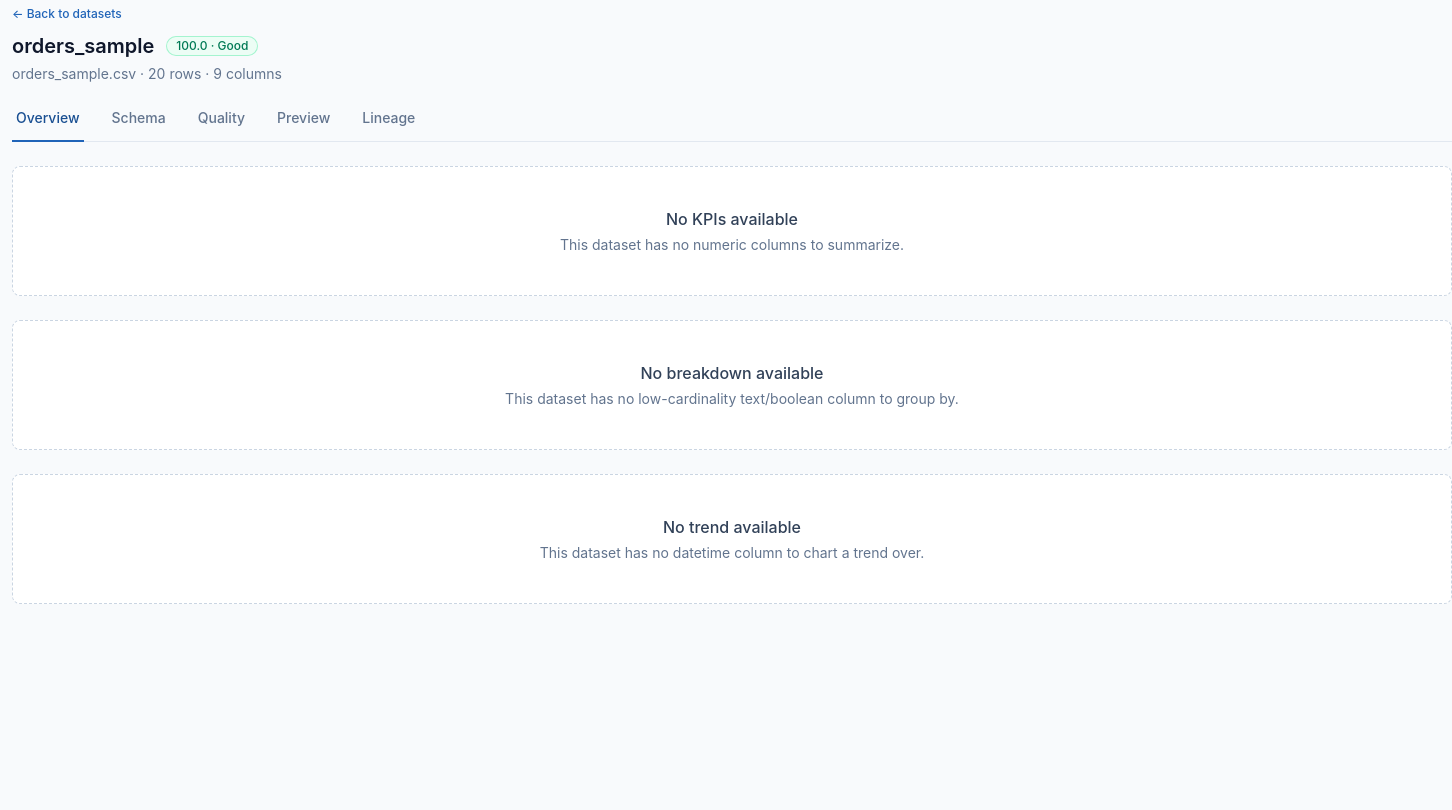
Test: DatasetDetailPage › shows the real quality score and issues on the Quality tab
Expected: the heading "orders_sample" is shown, [12,32,154,60]
Click the button "Quality": x=221, y=125 [194,108,249,142]
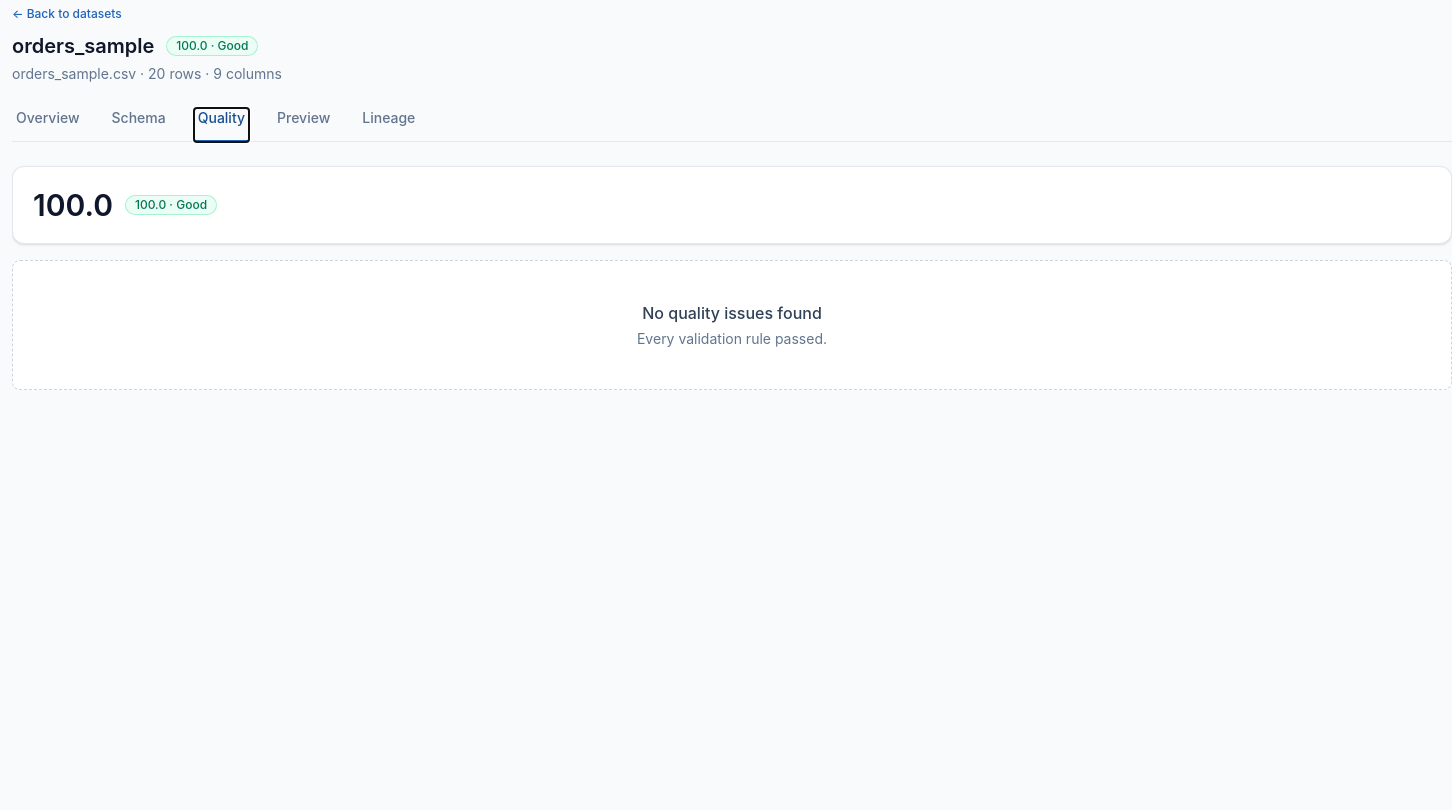
Expected: the text "No quality issues found" is shown, [642,303,822,323]
